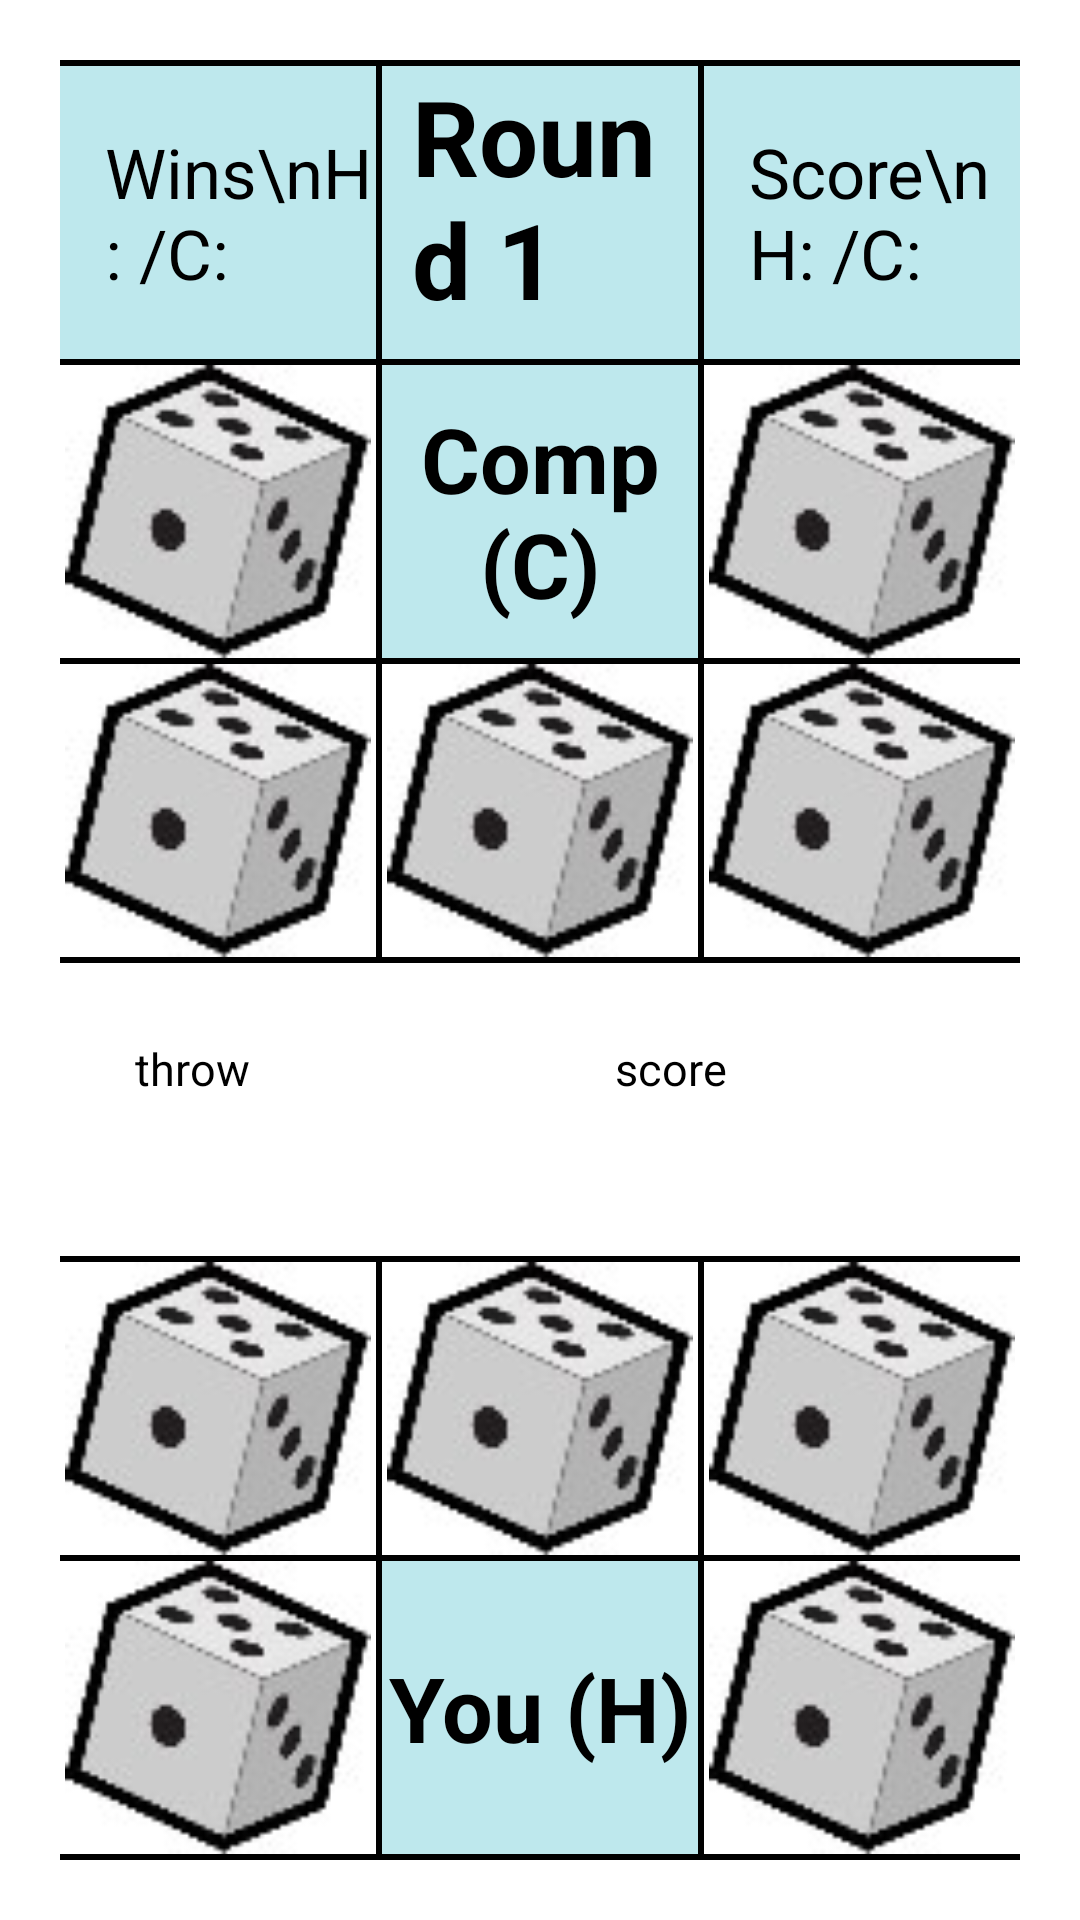

Where to tap for icons on this 1080×1920 app screen, as (x=x, y=y):
computer dice 1: (x=215, y=511)
computer dice 2: (x=859, y=511)
computer dice 3: (x=215, y=810)
computer dice 4: (x=540, y=810)
computer dice 5: (x=859, y=810)
human dice 1: (x=215, y=1408)
human dice 2: (x=540, y=1408)
human dice 3: (x=859, y=1408)
human dice 4: (x=215, y=1707)
human dice 5: (x=859, y=1707)
